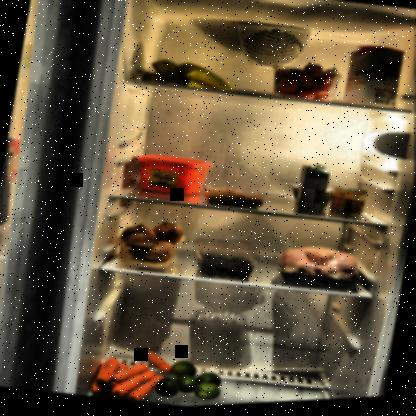banana: (136, 53, 239, 100)
blueberries: (197, 251, 255, 285)
butter: (130, 150, 215, 204)
carrot: (89, 340, 176, 408)
chicken: (273, 242, 368, 300)
corn: (326, 187, 368, 225)
heavy_cream: (294, 163, 332, 220)
lime: (155, 358, 231, 408)
onion: (117, 215, 185, 270)
shrimp: (199, 185, 269, 214)
strawberries: (265, 58, 338, 110)
